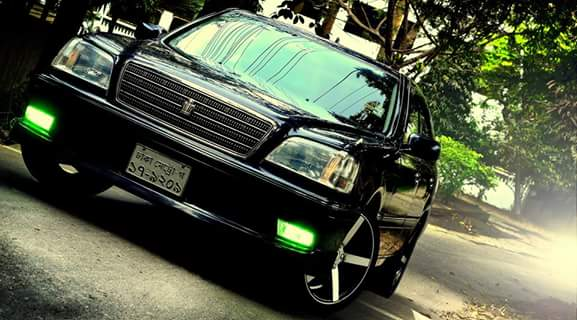registration_plate: (126, 142, 193, 197)
